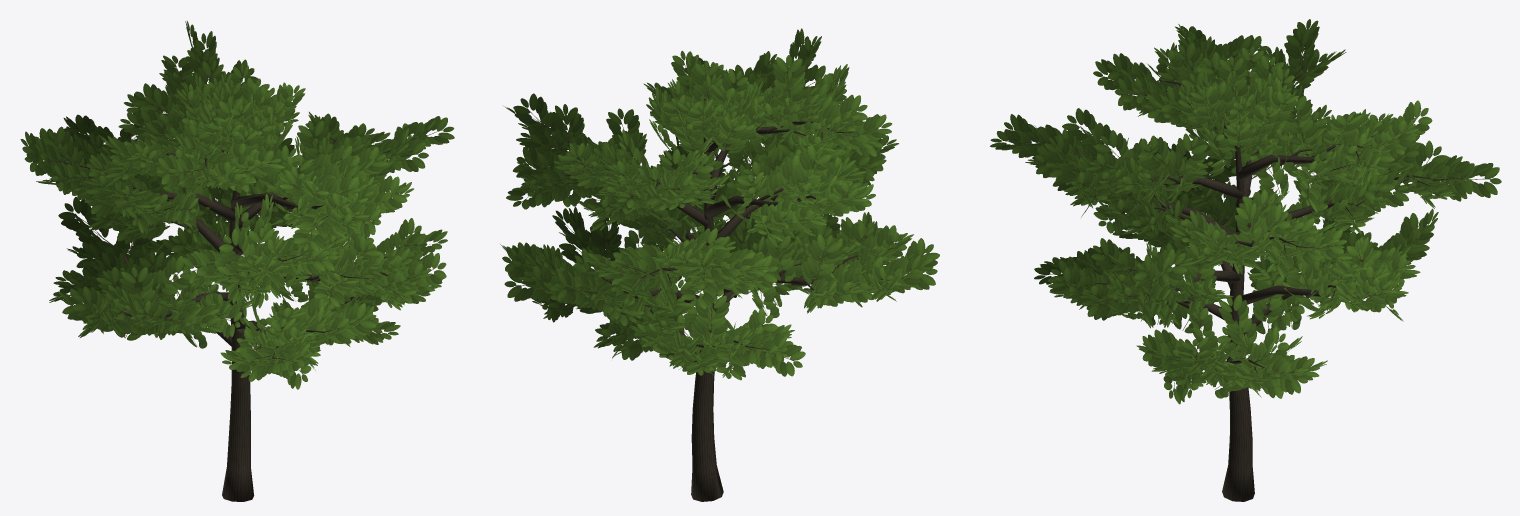
Rendered from alder.glb.
3 renders of one model, left to right at view 1: azimuth 30°, elevation 25°; view 2: azimuth 150°, elevation 25°; view 3: azimuth 270°, elevation 25°, orthographic. The views are drawn at different scales.
Parts seen in each view (by area): view 1: SM_alder_Foliage, SM_alder_BarkBranches; view 2: SM_alder_Foliage, SM_alder_BarkBranches; view 3: SM_alder_Foliage, SM_alder_BarkBranches.
Part boxes in pixels (left/top/right/bottom): SM_alder_Foliage: left=20, top=21, right=454, bottom=389; SM_alder_BarkBranches: left=48, top=56, right=420, bottom=501; SM_alder_Foliage: left=500, top=28, right=939, bottom=380; SM_alder_BarkBranches: left=528, top=55, right=882, bottom=501; SM_alder_Foliage: left=990, top=19, right=1501, bottom=404; SM_alder_BarkBranches: left=1031, top=52, right=1465, bottom=501.
Bounding box in the file's own units: 7.22 × 7.08 × 7.74.
2 materials, 2 textured.
